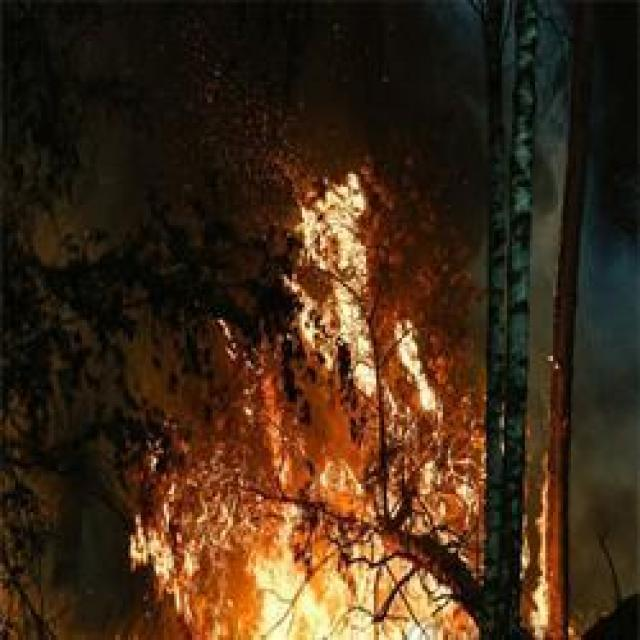Fire: (209, 154, 483, 640)
